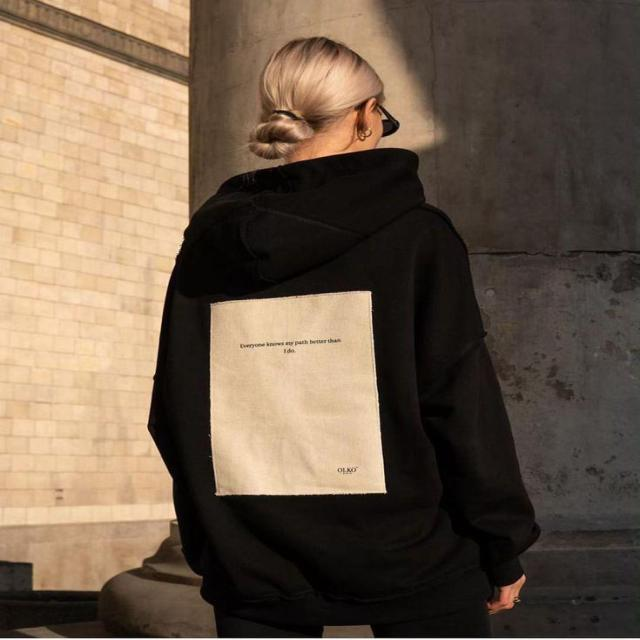Standing: (139, 26, 542, 640)
